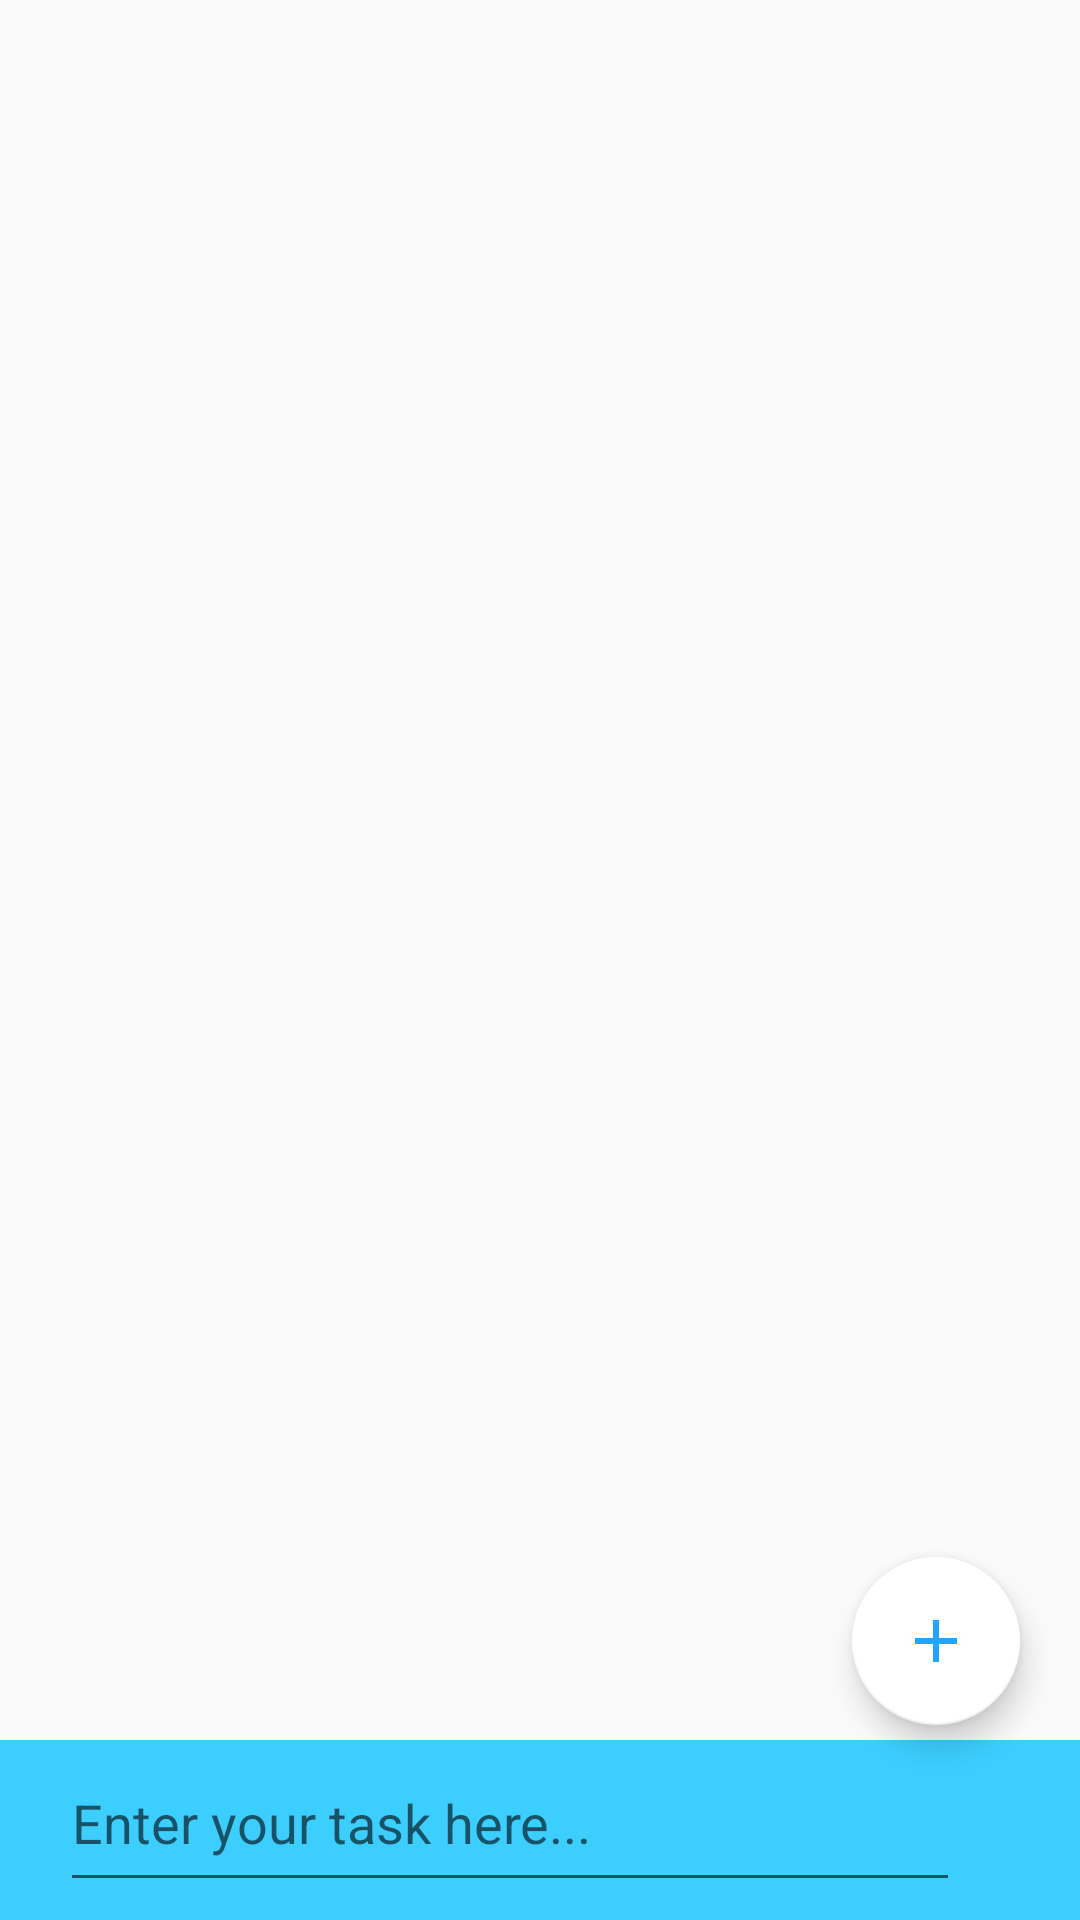

Screen size 1080 × 1920. Icon name, then its box in pixels as (x1, y1, x2, y2):
add: (858, 1620, 1020, 1725)
